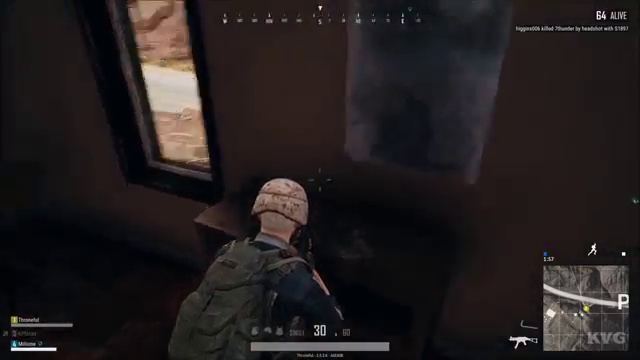Player: (170, 165, 391, 311)
